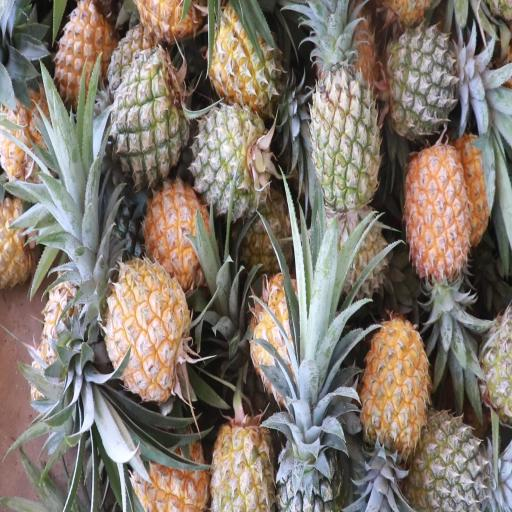Pineapple - v8 v1: (103, 250, 194, 407), (360, 308, 431, 459), (403, 138, 472, 290), (145, 183, 221, 302), (206, 4, 283, 116), (55, 5, 121, 128), (211, 416, 282, 512)
